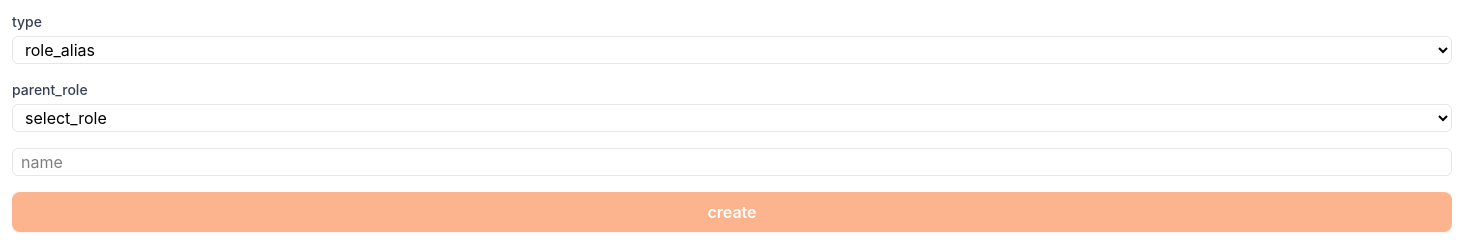
CreateRoleOverlay › keeps create disabled for RoleAlias until a parent role is selected
This screenshot has width=1464, height=250.
Type "Vice Chair" into the field with placeholder "name" at (732, 162), box [12,148,1452,176]
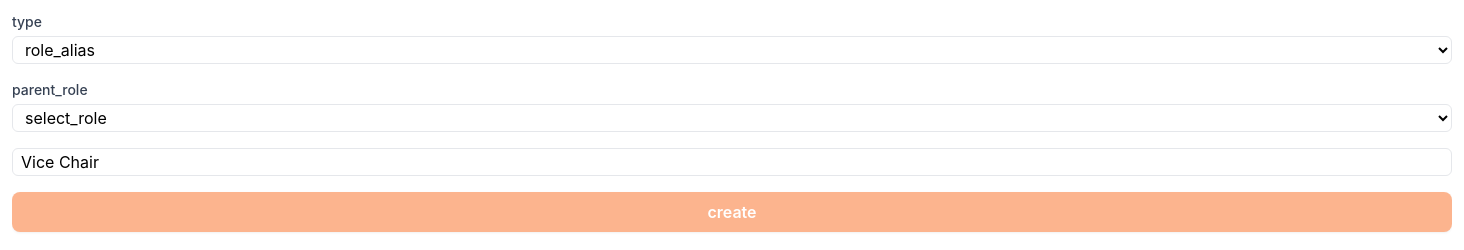
Check: the button "create" is disabled, box [12,192,1452,232]
Select "Chair" in the dropdown labelled "parent_role" at (732, 118), box [12,104,1452,132]
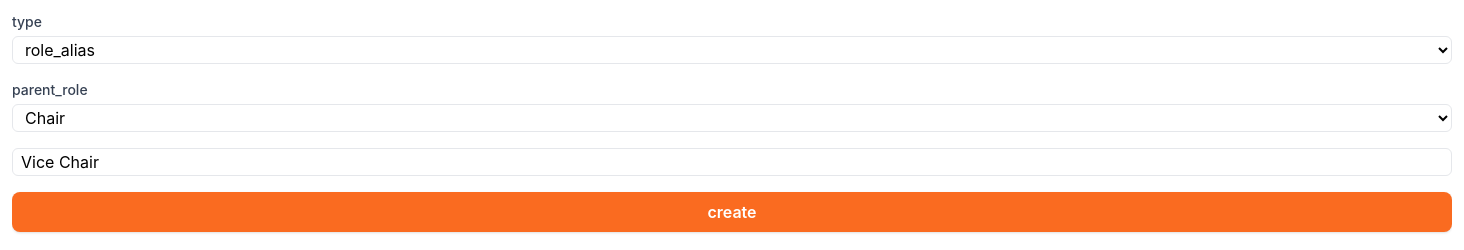
Check: the button "create" is enabled, box [12,192,1452,232]
